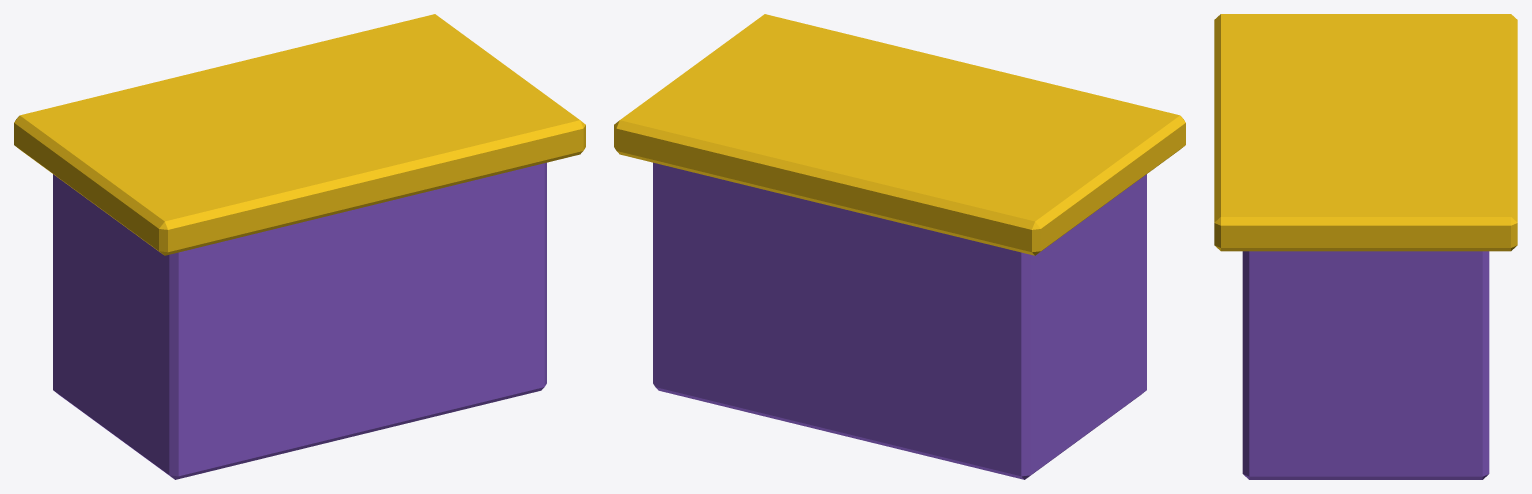
The model's file is prize_booth.glb.
3 renders of one model, left to right at view 1: azimuth 30°, elevation 25°; view 2: azimuth 150°, elevation 25°; view 3: azimuth 270°, elevation 25°, orthographic.
Parts seen in each view (by area): view 1: prize_booth; view 2: prize_booth; view 3: prize_booth.
Part boxes in pixels (left/top/right/bottom): prize_booth: left=14, top=14, right=585, bottom=479; prize_booth: left=614, top=14, right=1185, bottom=479; prize_booth: left=1214, top=14, right=1517, bottom=479.
Size of the model in its own units: 0.52 by 0.32 by 0.32.
